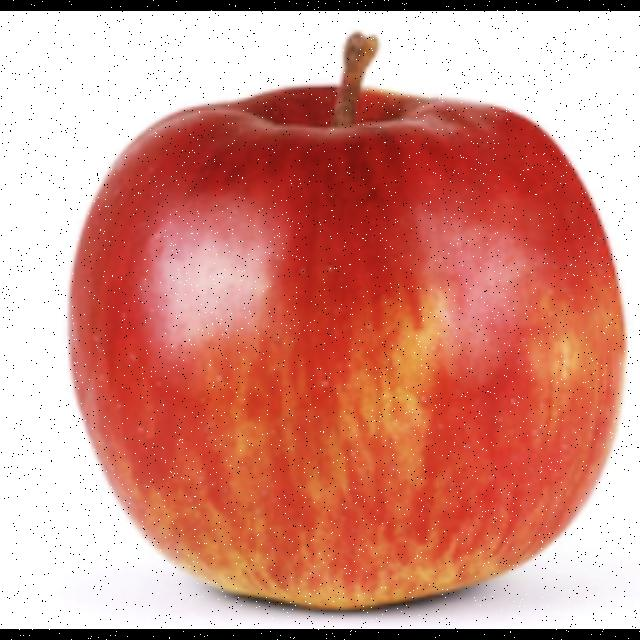Apel Segar: (74, 85, 626, 620)
